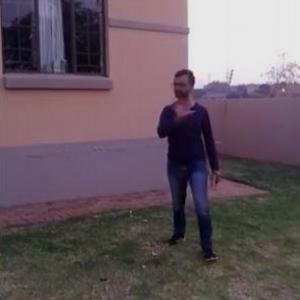follow_hand: (168, 93, 196, 119)
